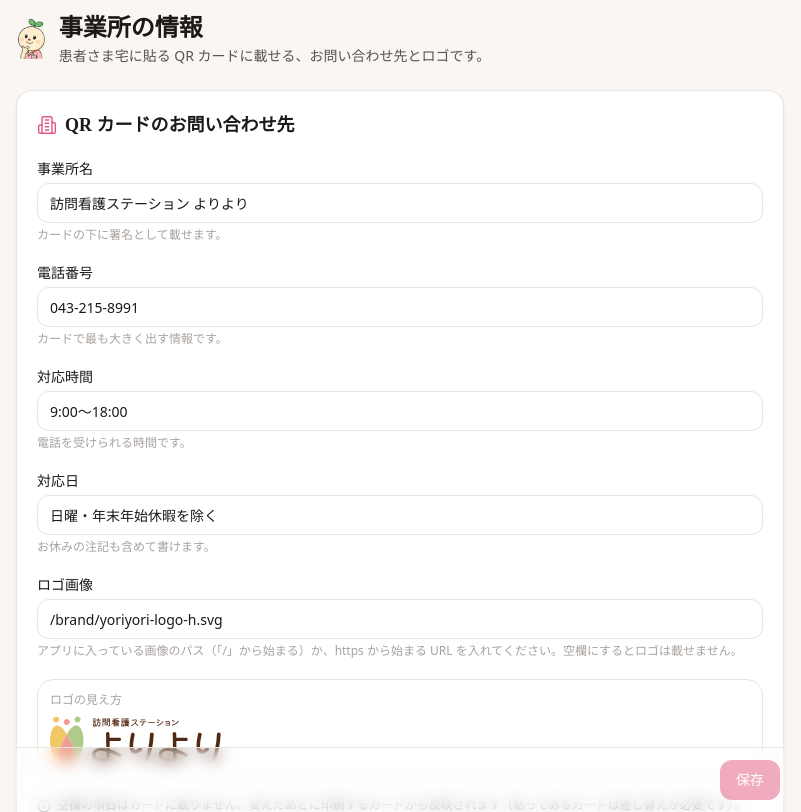
Test: BusinessSettingsPage › 3. ロゴが「/」でも https でもなければ保存できない
The image size is (801, 812).
Replace the text in the field labelled "ロゴ画像" with "http://example.com/a.svg": (400, 619) [37,599,763,639]
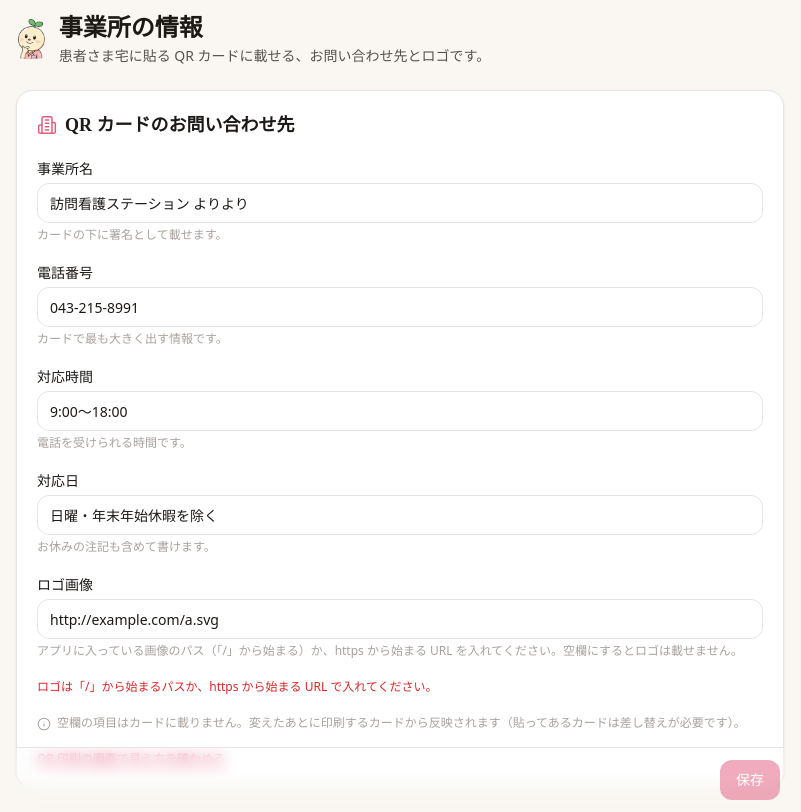
Expected: the button with test id "save" is disabled, [720,760,780,800]
Expected: the text "ロゴは「/」から始まるパスか、https から始まる URL で入れてください。" is shown, [37,678,438,695]
